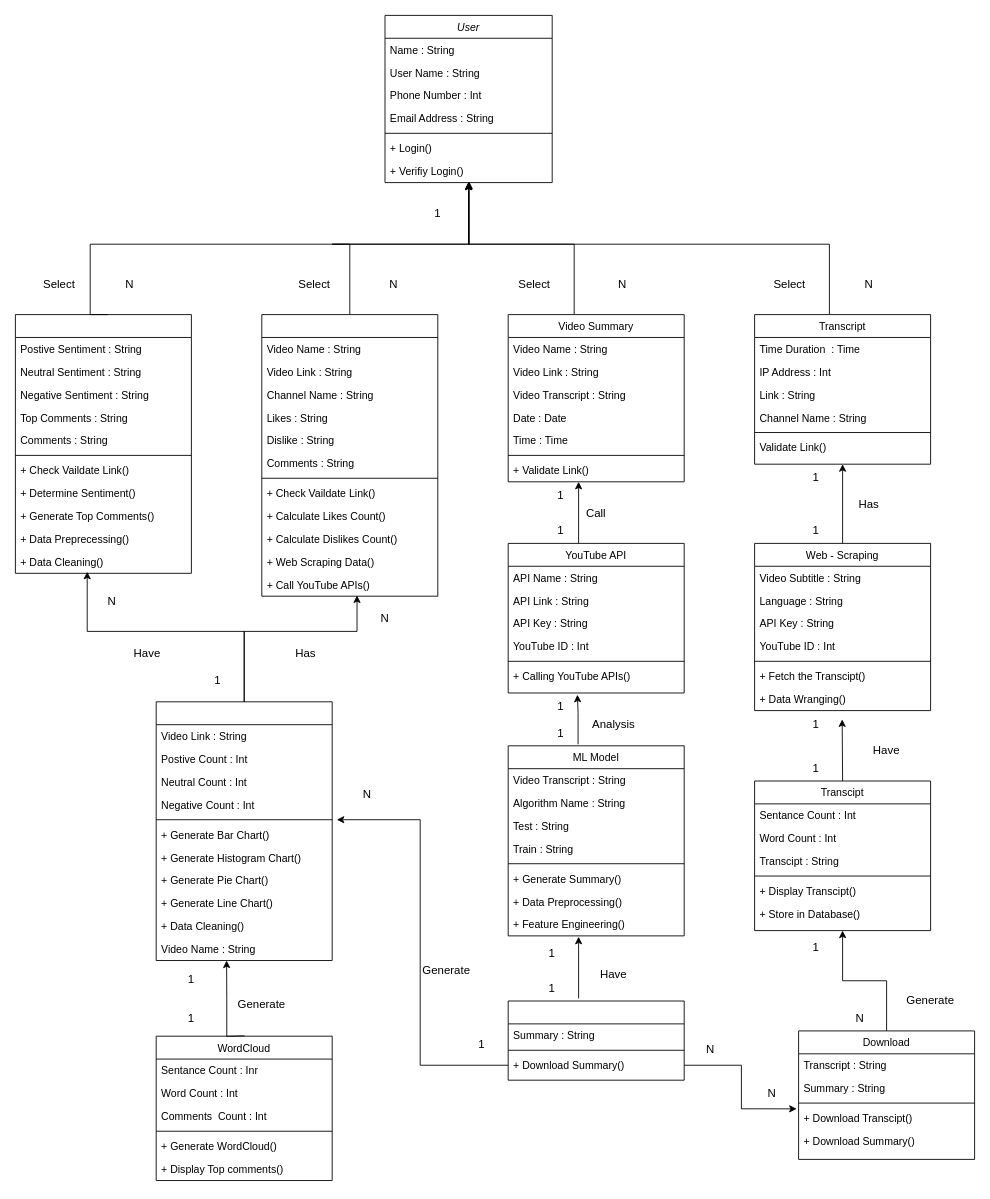
The diagram is 990 pixels wide and 1199 high, and some of its shapes have lost their labels. Here are the shapes that lost their labels. From the top down, the box of each, then its label:
(15, 314, 191, 573): Sentiment Analysis
(261, 314, 438, 596): Video Analysis
(155, 701, 332, 961): Graphs
(507, 1000, 684, 1080): Display
